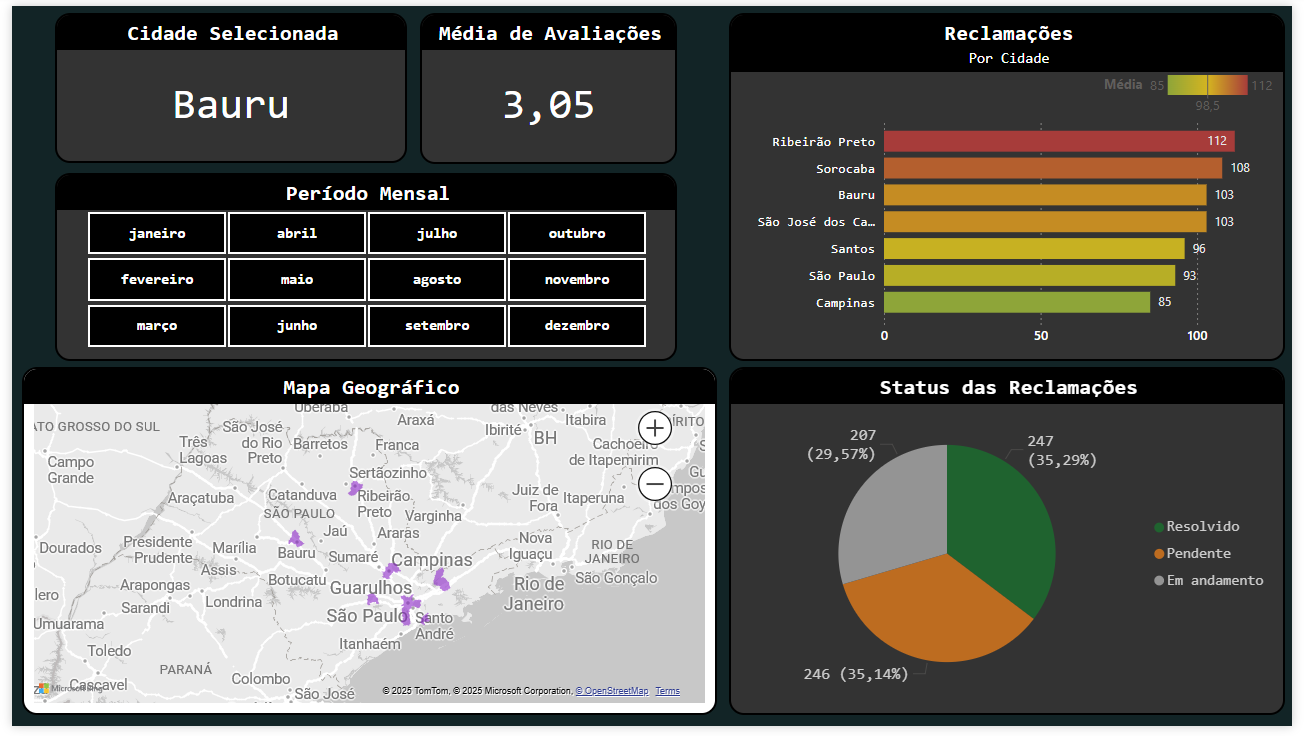

This screenshot's page, from the dashboard's own definition file:
{"tool":"powerbi","page":{"name":"Página Secundária","canvas":[1280,720],"ordinal":1},"visuals":[{"type":"filledMap","title":"Mapa Geográfico","fields":{"Category":["Sheet1.Cidade"]},"box":[9.6,360.6,695.1,348.2],"z":0},{"type":"pieChart","title":"Status das Reclamações","fields":{"Y":["CountNonNull(Sheet1.Status)"],"Category":["Sheet1.Status"]},"box":[717.1,360.6,556,348.2],"z":1000},{"type":"card","title":"Cidade Selecionada","fields":{"Values":["Min(Sheet1.Cidade)"]},"box":[42.8,6.7,352,150.7],"z":2000},{"type":"slicer","title":"Período Mensal","fields":{"Values":["Sheet1.Data.Variation.Hierarquia de datas.Mês"]},"box":[43,166.5,622.1,188.6],"z":3000},{"type":"card","title":"Média de Avaliações","fields":{"Values":["Avg(Sheet1.Avaliação do Atendimento)"]},"box":[407.8,6.9,257.4,151.4],"z":4000},{"type":"barChart","title":"Reclamações","fields":{"Category":["Sheet1.Cidade"],"Y":["Sum(Sheet1.Total de Reclamações)"]},"box":[717.1,6.9,556,348.2],"z":5000}]}

Visuals, with their boxes in screenshot pixels (x1, y1, x2, y2), scaled from the page's 1280x720 canvas onto the 1304x736 screenshot:
"Mapa Geográfico" filledMap: rect(10, 369, 718, 725)
"Status das Reclamações" pieChart: rect(731, 369, 1297, 725)
"Cidade Selecionada" card: rect(44, 7, 402, 161)
"Período Mensal" slicer: rect(44, 170, 678, 363)
"Média de Avaliações" card: rect(415, 7, 678, 162)
"Reclamações" barChart: rect(731, 7, 1297, 363)
